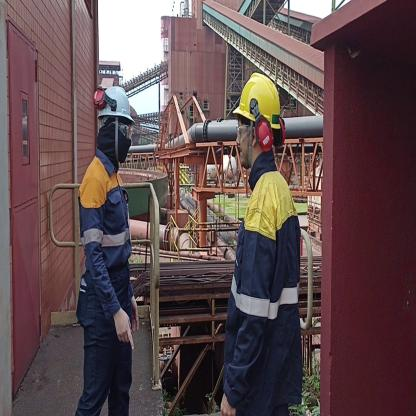Balaclava: (103, 115, 131, 167)
C_eletrica: (221, 171, 302, 416)
Capacete: (236, 70, 286, 130), (96, 83, 133, 118)
Operacional: (79, 157, 136, 310)
